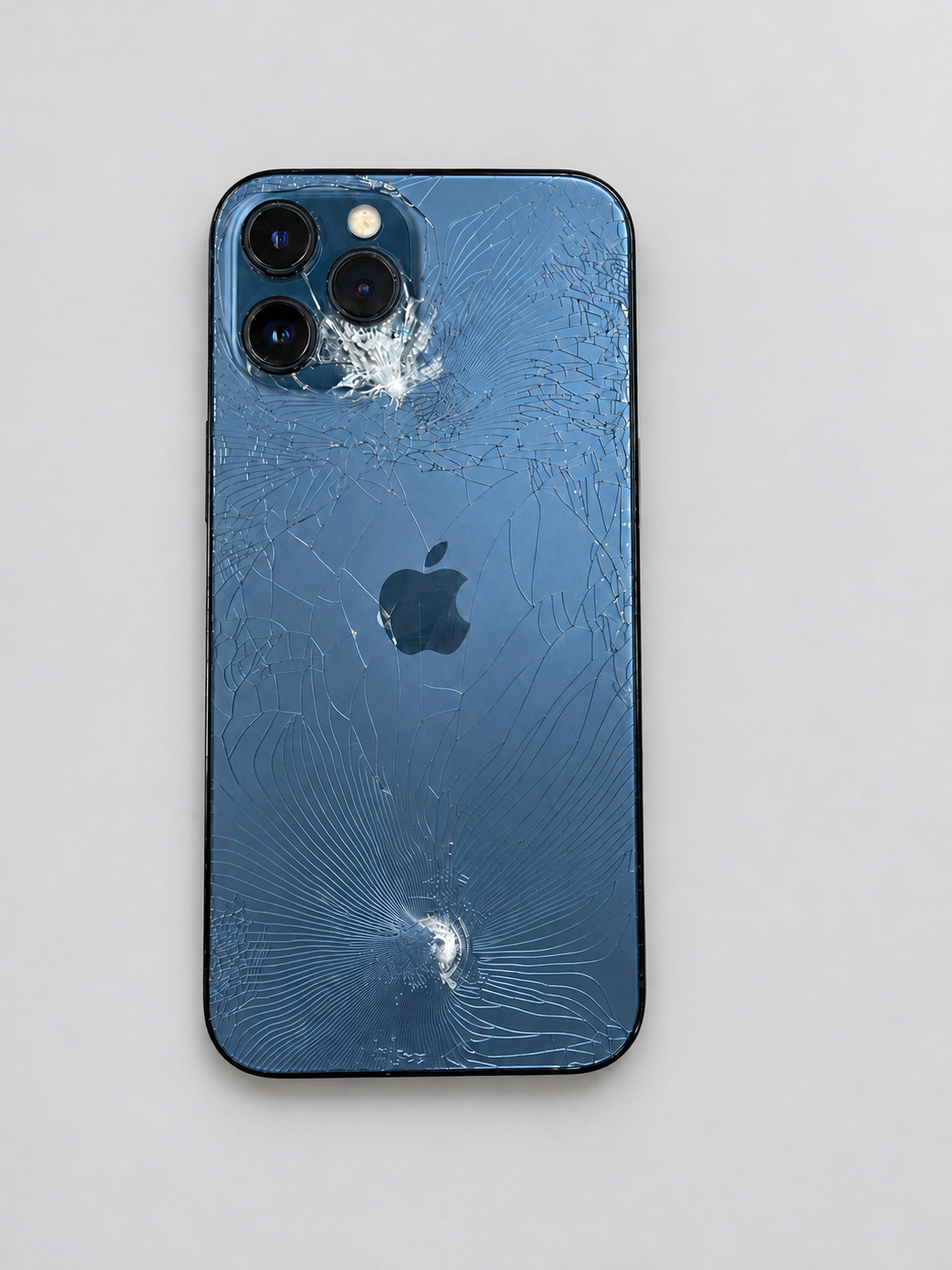iphone_12_pro_max_Crack: (144, 112, 727, 1145)
